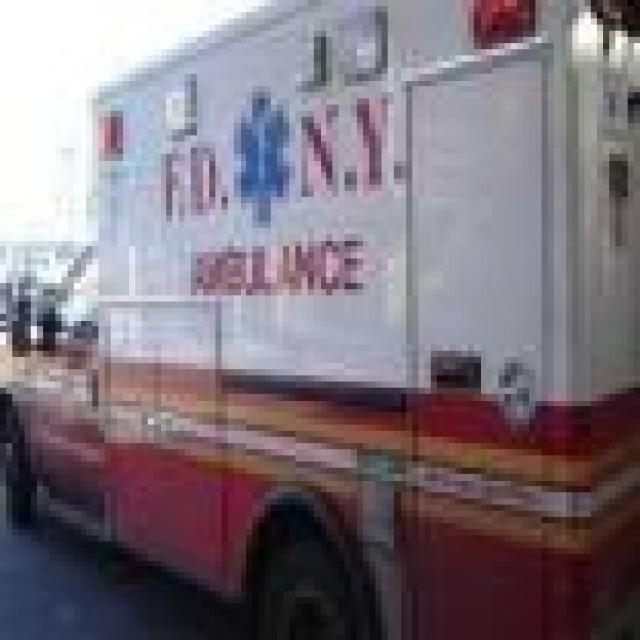emergency-vehicle: (0, 15, 640, 637)
